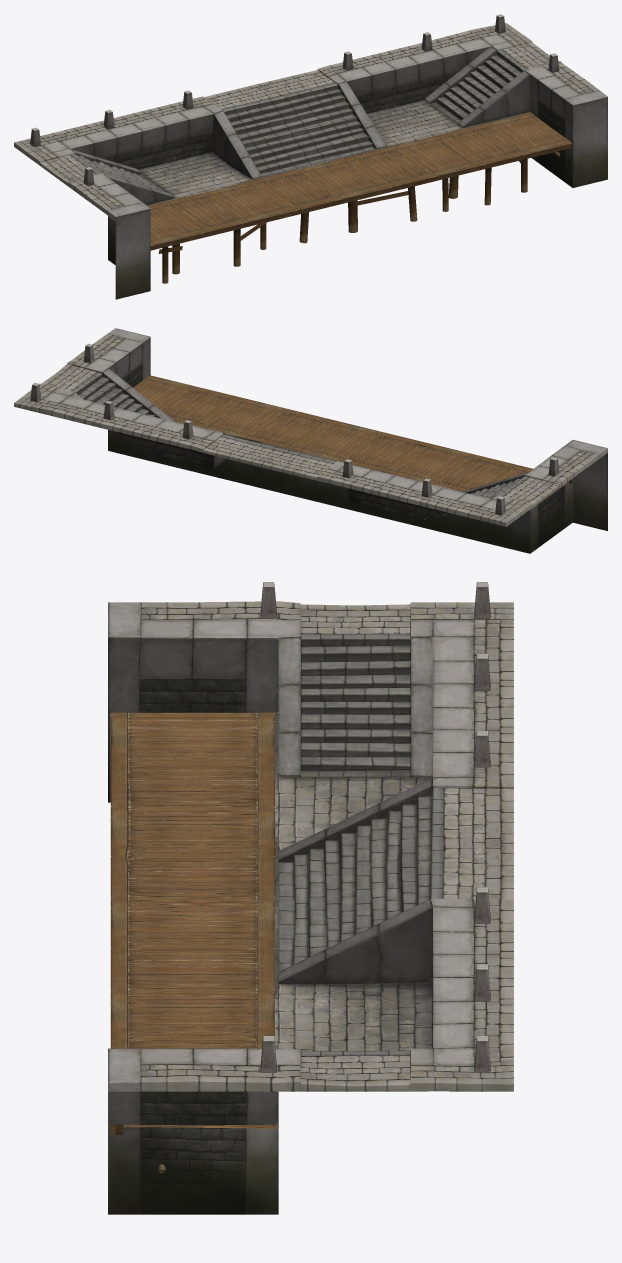
Rendered from quaypart_01.fbx.
3 views of the same model, one above another, from view 1: azimuth 30°, elevation 25°; view 2: azimuth 150°, elevation 25°; view 3: azimuth 270°, elevation 25° (orthographic). The views are drawn at different scales.
Visible parts, largest first — view 1: GEOM0_LOD0; view 2: GEOM0_LOD0; view 3: GEOM0_LOD0.
Boxes of the visible parts, left/top/right/bottom form: GEOM0_LOD0: left=14, top=14, right=607, bottom=299; GEOM0_LOD0: left=14, top=328, right=607, bottom=553; GEOM0_LOD0: left=108, top=582, right=513, bottom=1214.
Size of what is drawn, in the model's own units: 2800 by 546 by 1000.
